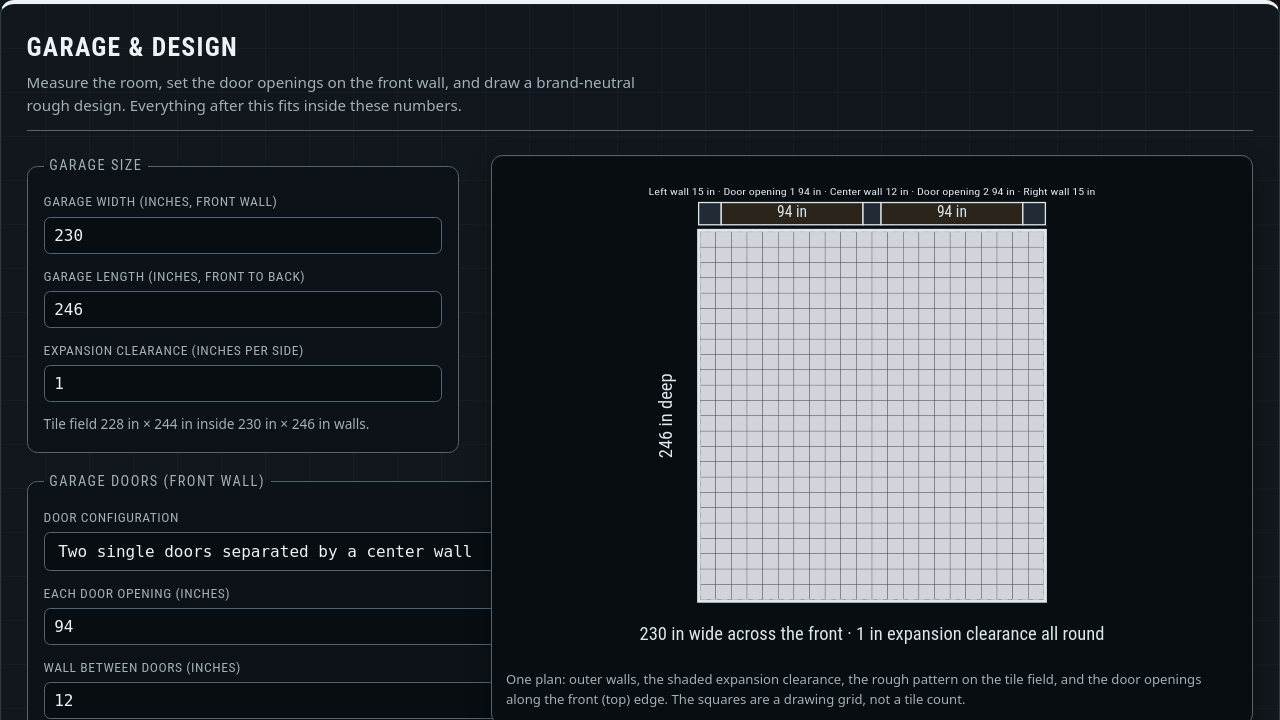
Test: GuidedPlanner garage defaults › recomputes the tile field when the expansion clearance changes
Step 1. Replace the text in the field labelled "Expansion clearance (inches per side)" with "2" → (243, 383), box [44,365,442,402]
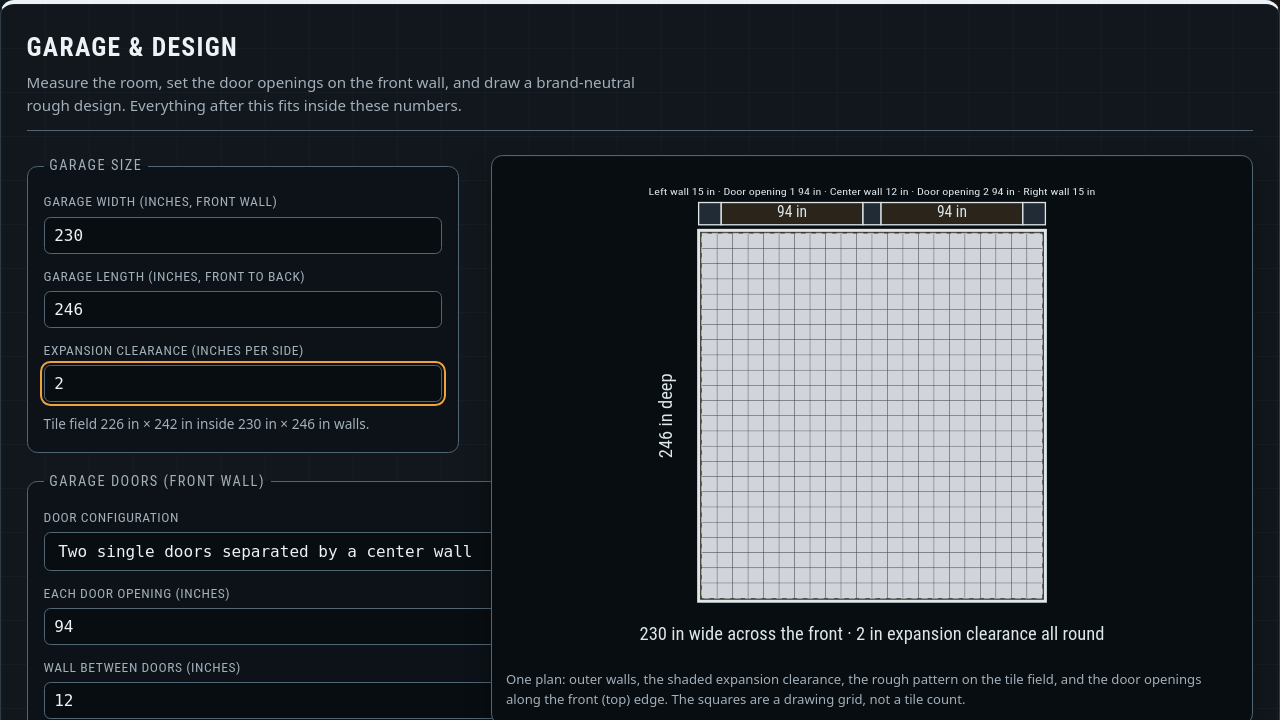
Expected: the text with test id "planner-tile-field" shows "Tile field 226 in × 242 in", [44,414,369,433]
